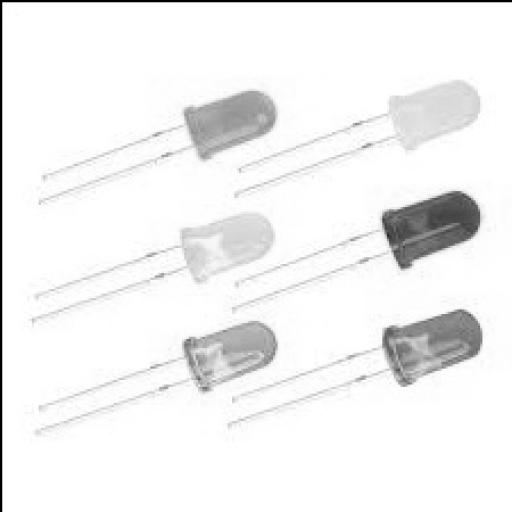LED: (243, 55, 512, 186), (291, 310, 512, 435), (155, 187, 299, 319), (131, 301, 297, 413), (362, 164, 503, 290), (151, 80, 297, 188)
